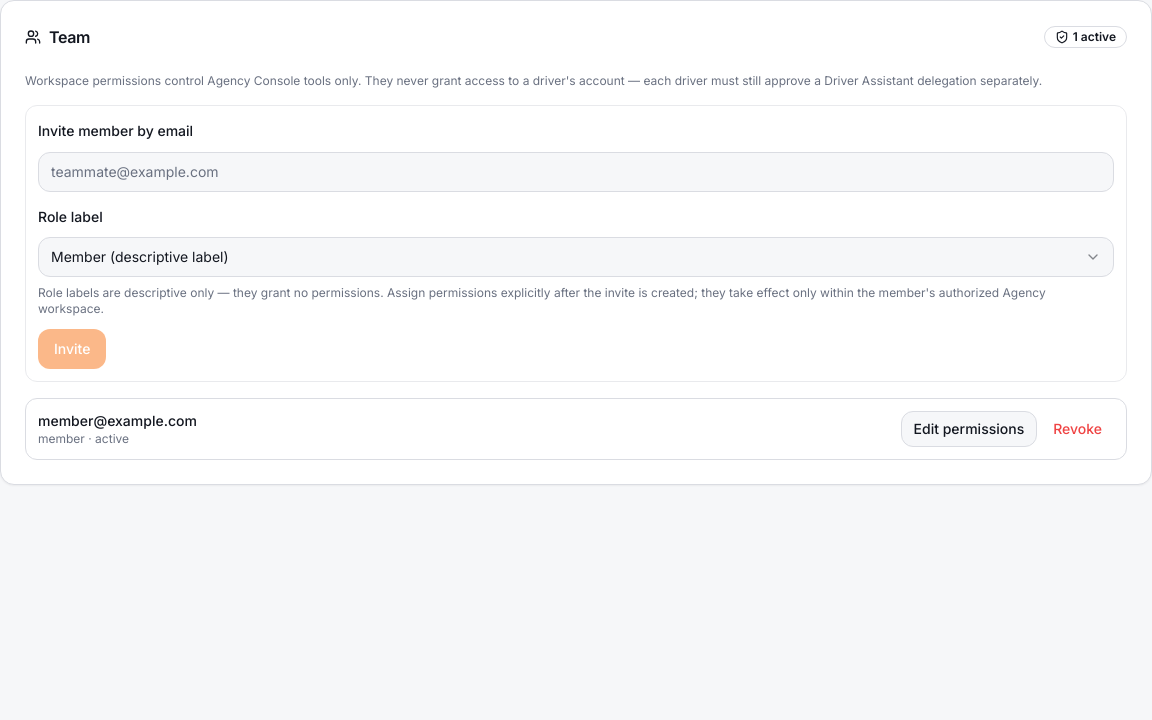
Test case: RW-1 — Agency team surface gating › exposes exactly the 11 known permission toggles, all independent
Later steps or results of the test are not shown.
Click the button with test id "agency-edit-permissions-m1" at point(969, 429), box [901,411,1037,447]
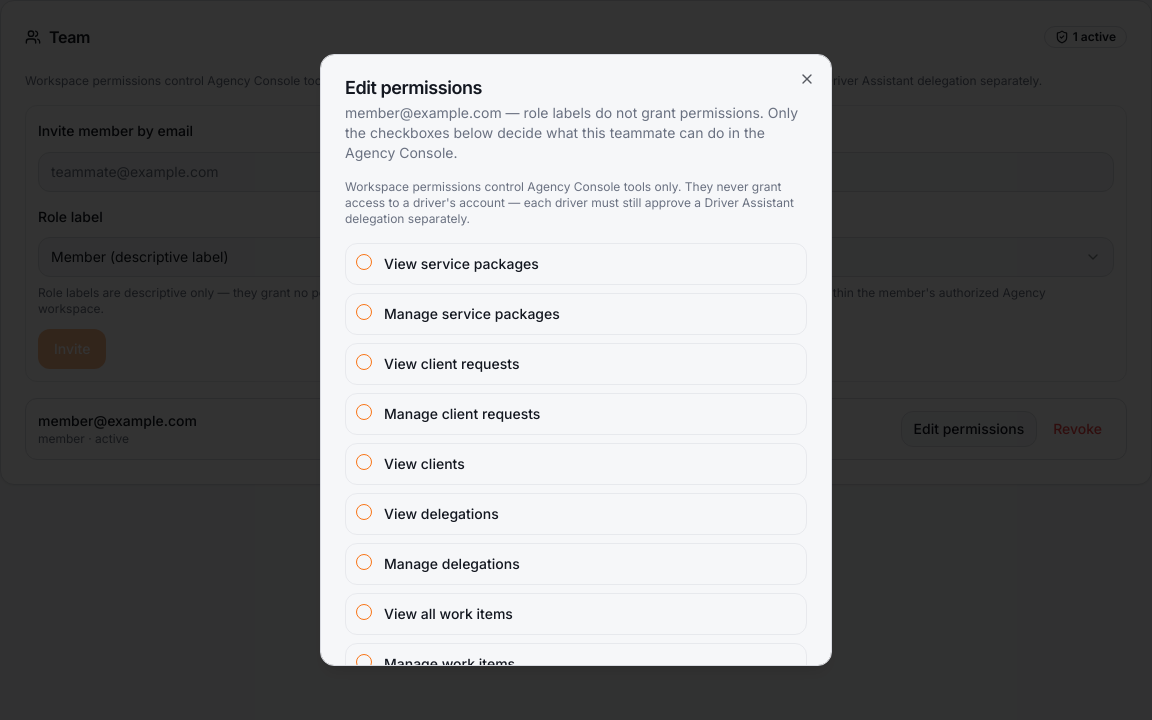
Result: the element with test id "agency-permission-editor" is shown at [345,243,807,666]
Result: the checkbox with test id "agency-permission-work_items_manage" is shown at [356,654,372,666]
